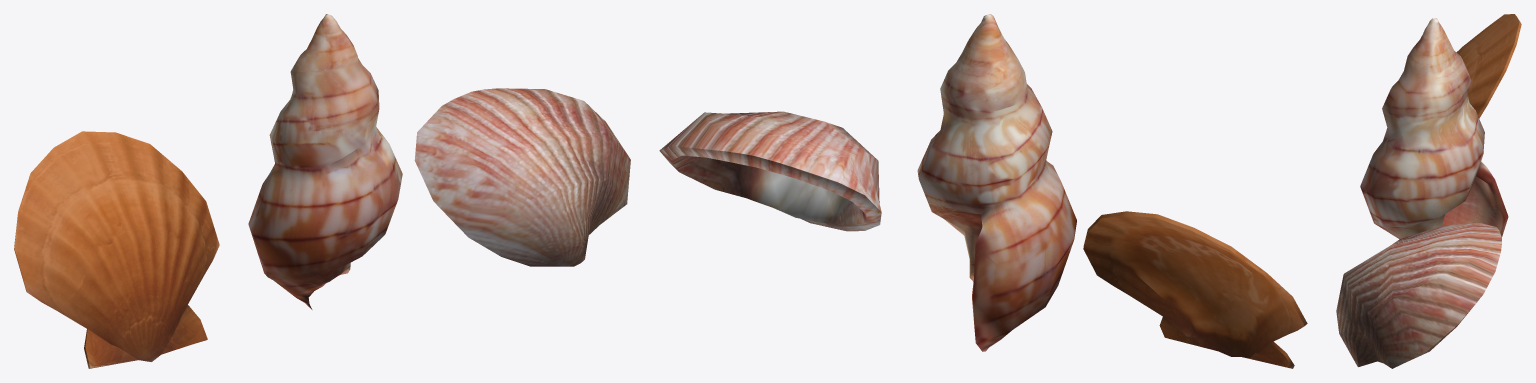
Rendered from seashell1_edit_for_FBX.fbx.
The picture shows the model from 3 angles, left to right: view 1: azimuth 30°, elevation 25°; view 2: azimuth 150°, elevation 25°; view 3: azimuth 270°, elevation 25°; orthographic projection. The views are drawn at different scales.
Visible parts, largest first — view 1: seashell1, seashell3, seashell2; view 2: seashell2, seashell1, seashell3; view 3: seashell2, seashell3, seashell1.
Boxes of the visible parts, left/top/right/bottom form: seashell1: left=14, top=131, right=219, bottom=368; seashell3: left=414, top=88, right=630, bottom=266; seashell2: left=248, top=14, right=402, bottom=309; seashell2: left=917, top=14, right=1076, bottom=351; seashell1: left=1083, top=211, right=1307, bottom=368; seashell3: left=659, top=111, right=881, bottom=231; seashell2: left=1360, top=18, right=1508, bottom=239; seashell3: left=1336, top=223, right=1501, bottom=368; seashell1: left=1456, top=14, right=1521, bottom=118.
Size of the model in its own units: 13990 by 6786 by 4051.
